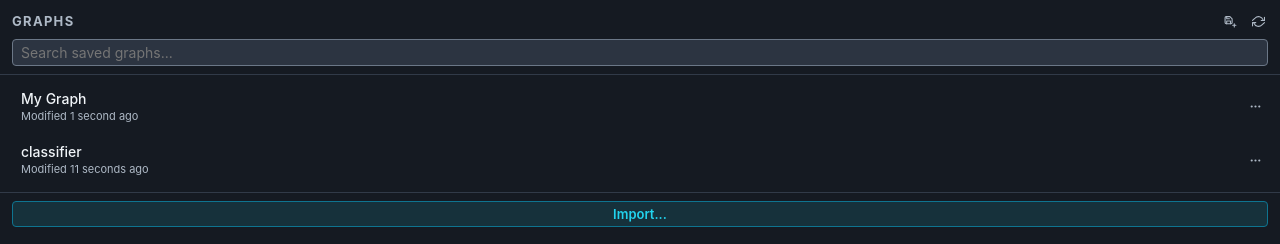
GraphsTab list › filters on the name and on the file stem
Expected: the button with aria-label "Open My Graph" is shown, left=9, top=82, right=1243, bottom=131
In the field with placeholder "Search saved graphs...": (640, 53) left=12, top=39, right=1268, bottom=66, type "classi"
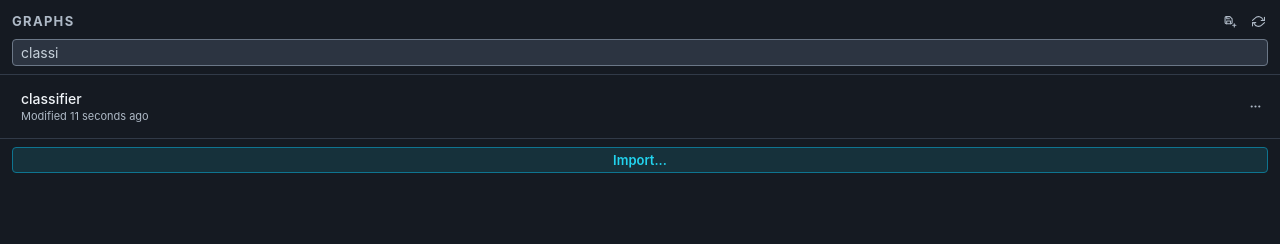
Replace the text in the field with placeholder "Search saved graphs..." with "my_graph": (640, 53) left=12, top=39, right=1268, bottom=66
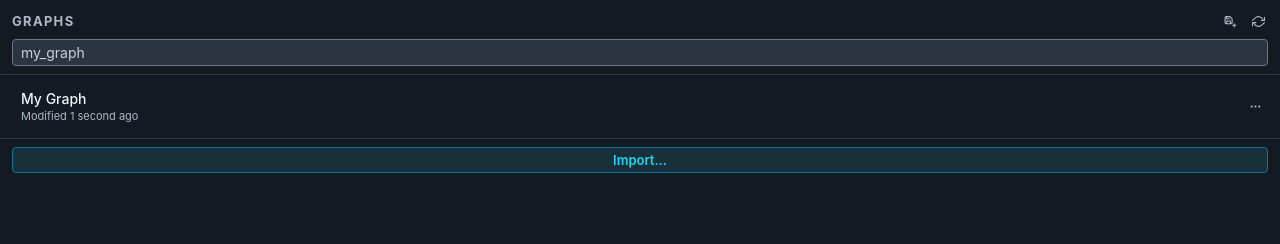
Replace the text in the field with placeholder "Search saved graphs..." with "nothing": (640, 53) left=12, top=39, right=1268, bottom=66
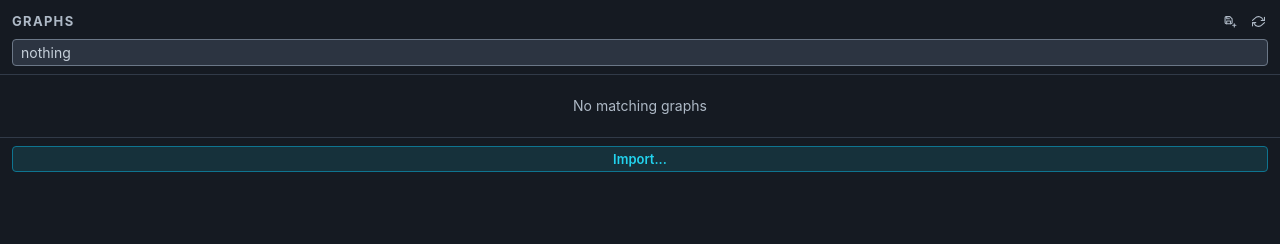
Expected: the text "No matching graphs" is shown, left=573, top=97, right=707, bottom=114
